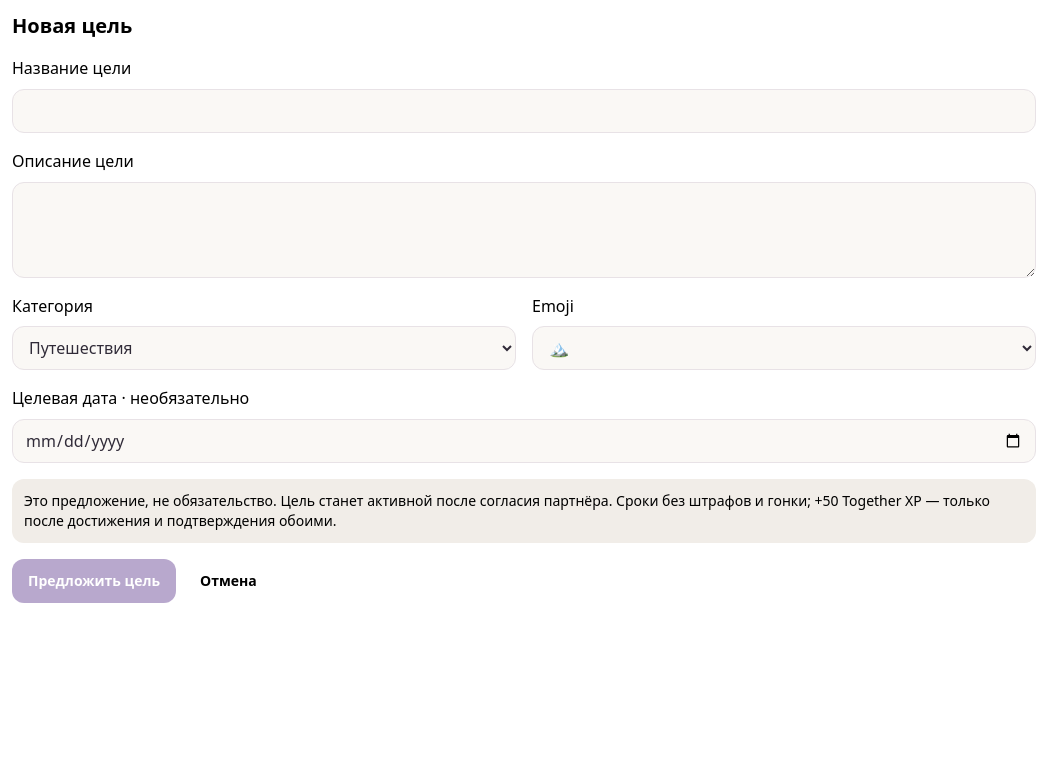
review: offline submit is rejected rather than queued for automatic reconnect
The image size is (1048, 780).
In the field labelled "Название цели": point(524, 111) [12,89,1036,133], type "Без сети"
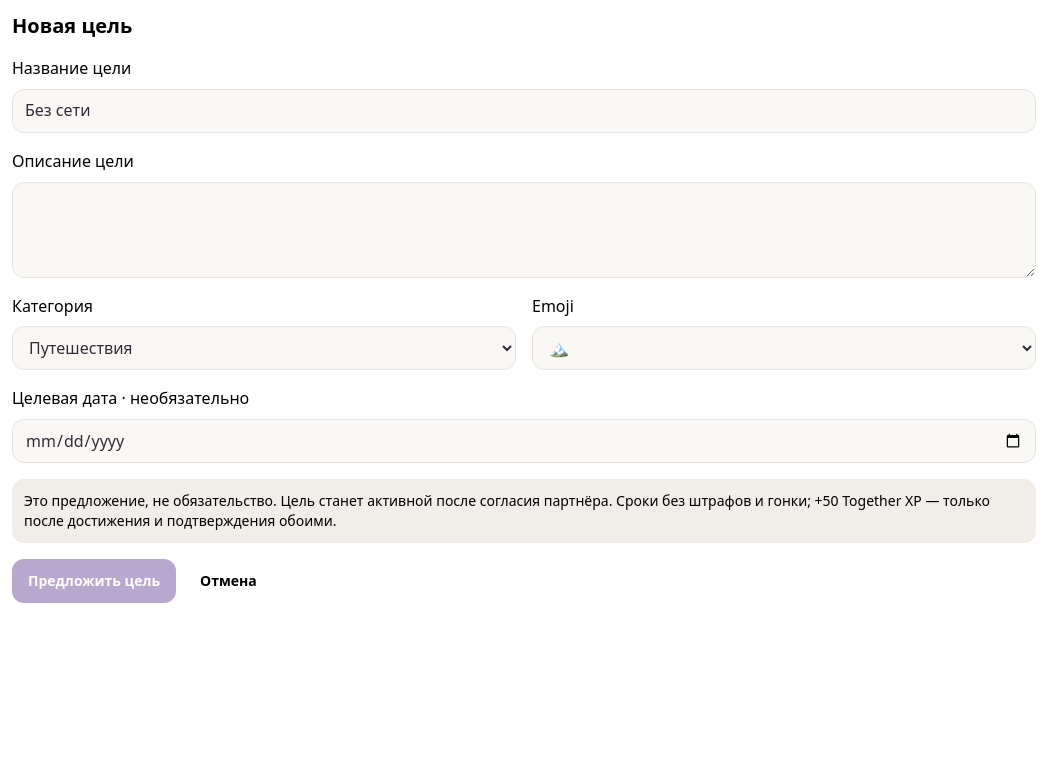
Submit the form named "Предложить цель"
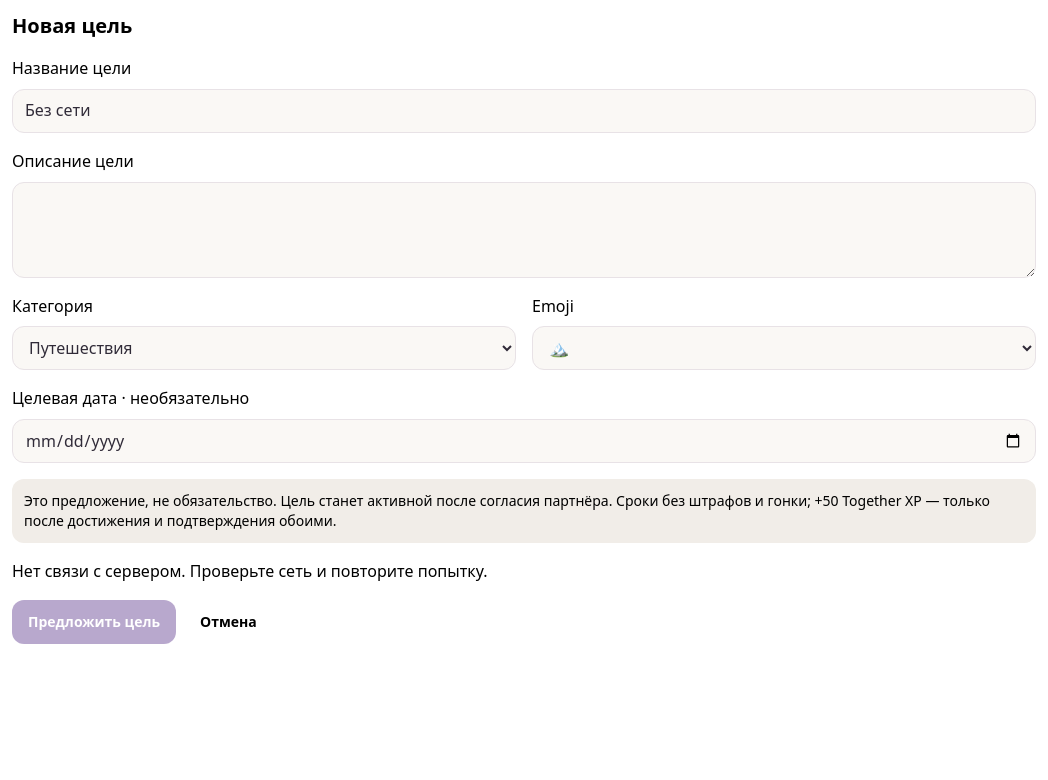
Check: the message shows "Нет связи", box [12,560,488,582]
